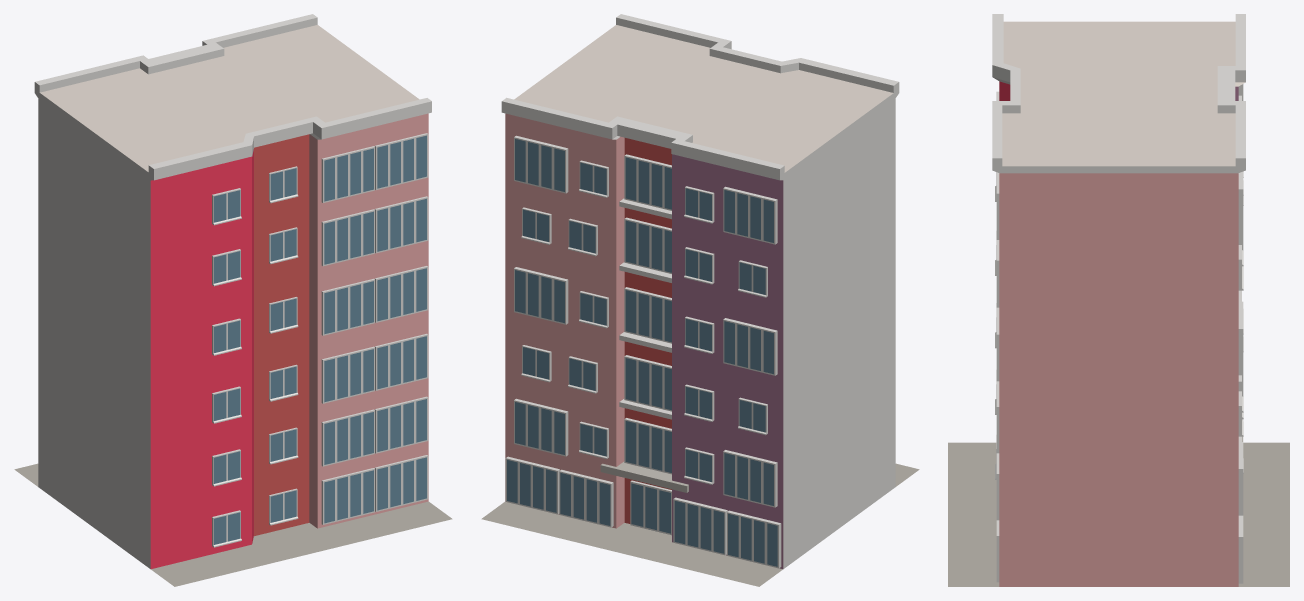
File: Apartment_7.fbx
The picture shows the model from 3 angles, left to right: view 1: azimuth 30°, elevation 25°; view 2: azimuth 150°, elevation 25°; view 3: azimuth 270°, elevation 25°; orthographic projection. The views are drawn at different scales.
Visible parts, largest first — view 1: Appartment, Plane; view 2: Appartment, Plane; view 3: Appartment, Plane.
Part boxes in pixels (x1,y1,x2,y2): Appartment: (34,14,431,569); Plane: (14,463,452,586); Appartment: (501,14,899,569); Plane: (481,463,919,586); Appartment: (992,14,1245,586); Plane: (948,442,1289,586).
Bounding box in the file's own units: 20 × 27.67 × 20.
